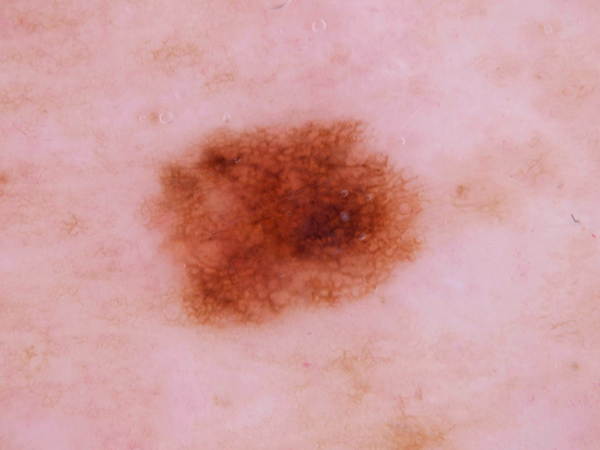Detected Lesion: (143, 114, 428, 326)
